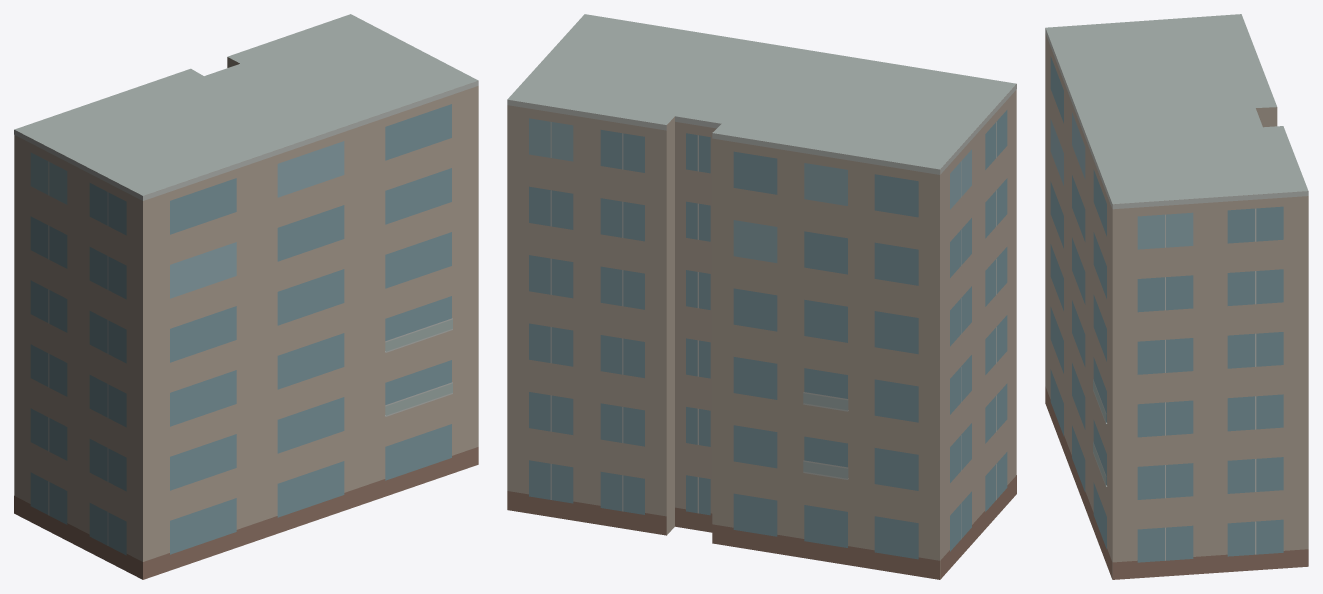
The model's file is survey-upis-32714585.glb.
3 views of the same model, side by side, from view 1: azimuth 30°, elevation 25°; view 2: azimuth 150°, elevation 25°; view 3: azimuth 270°, elevation 25° (orthographic). The views are drawn at different scales.
Visible parts, largest first — view 1: survey-upis-32714585.tmp; view 2: survey-upis-32714585.tmp; view 3: survey-upis-32714585.tmp.
Boxes of the visible parts, x1,y1,x2,y2 form: survey-upis-32714585.tmp: [14, 14, 478, 579]; survey-upis-32714585.tmp: [507, 14, 1016, 579]; survey-upis-32714585.tmp: [1045, 14, 1308, 579].
Bounding box in the file's own units: 19.89 × 18.3 × 11.63.
